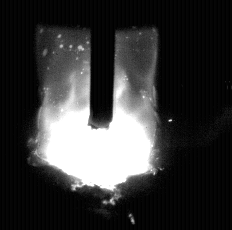arame: (91, 0, 114, 130)
poca: (37, 0, 152, 230)
